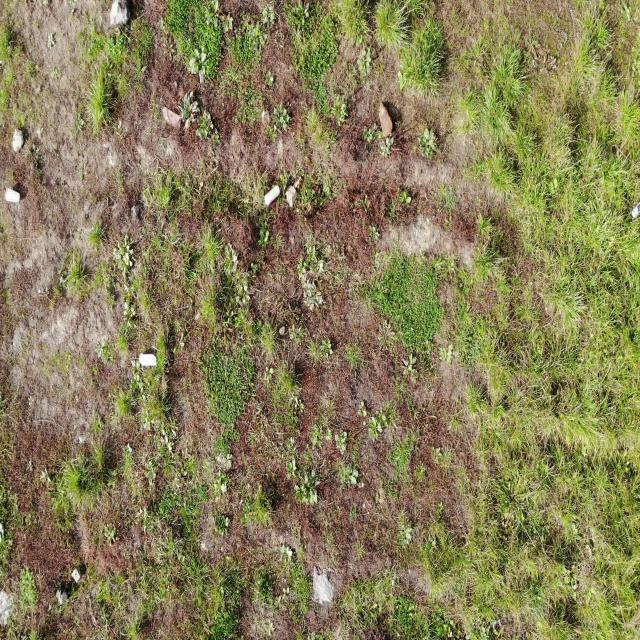rubbish: (262, 184, 281, 209), (4, 185, 21, 204), (137, 354, 157, 367), (71, 568, 82, 590), (629, 204, 640, 221)
